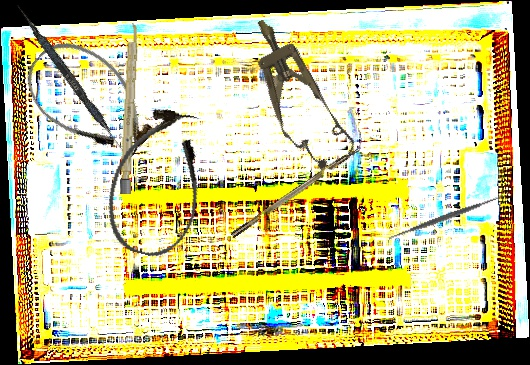Cannula: (11, 24, 169, 178), (96, 100, 220, 265)
Chopper: (225, 135, 369, 239)
Scalpel Handle: (119, 22, 140, 195)
Spatula Surgical: (11, 3, 135, 162), (384, 190, 506, 246)
Speculum: (232, 6, 362, 179)
